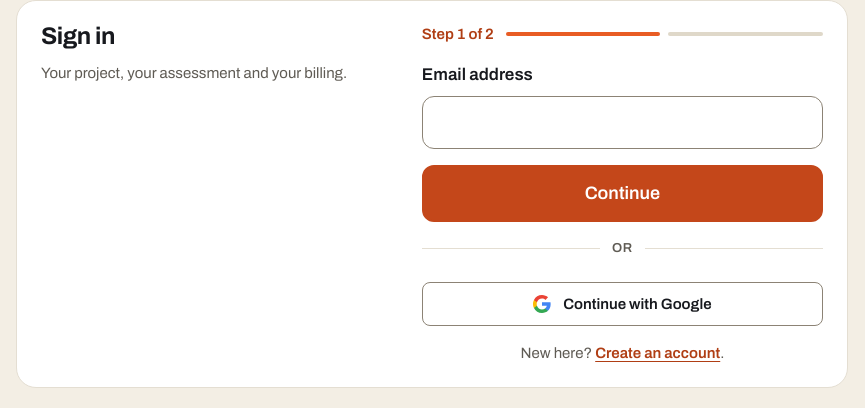
Test: the sign-in page › asks for the address first, then the password
Expected: the field labelled "password" is not shown
Expected: the text "Step 1 of 2" is shown, left=422, top=23, right=494, bottom=46
In the field labelled "Email address": (622, 122) left=422, top=96, right=823, bottom=148, type "dana@cascadeheating.example"
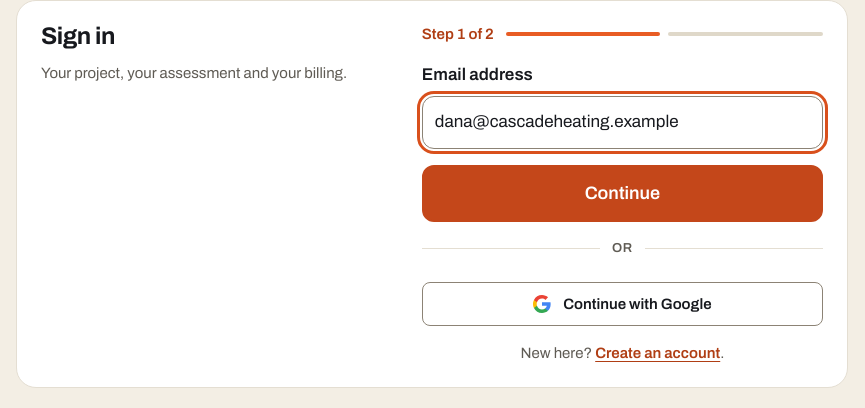
Click the button "Continue": (622, 193) left=422, top=164, right=823, bottom=222
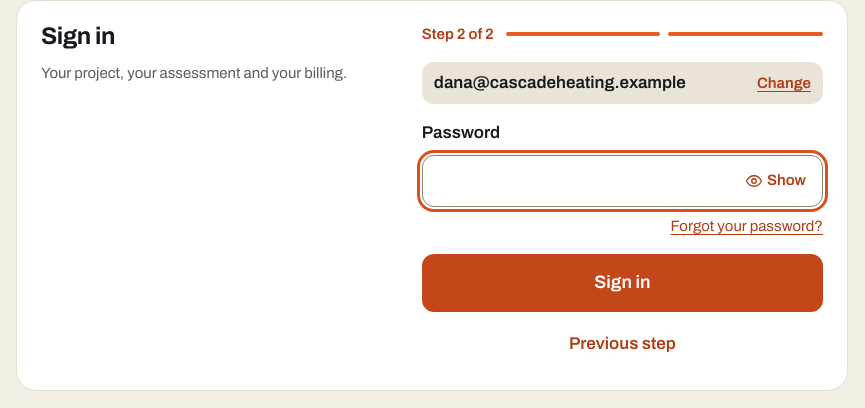
Result: the password field labelled "Password" is shown at left=422, top=154, right=823, bottom=207
Result: the label labelled "Email address" is gone
